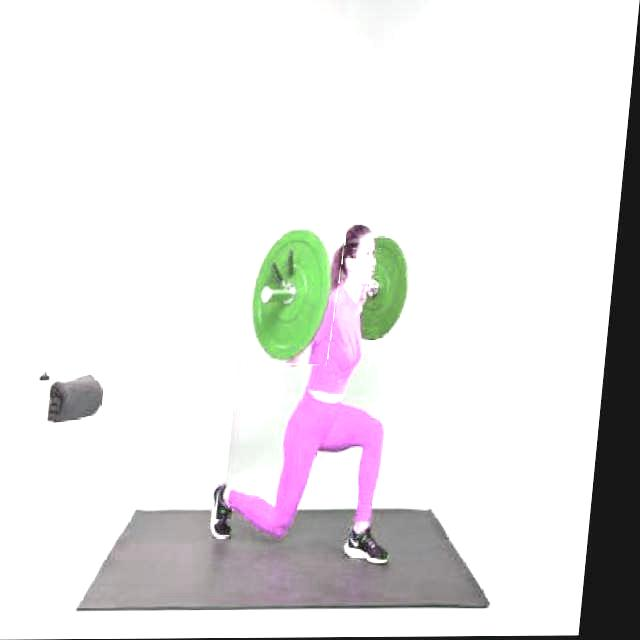barbell: (245, 220, 352, 365)
